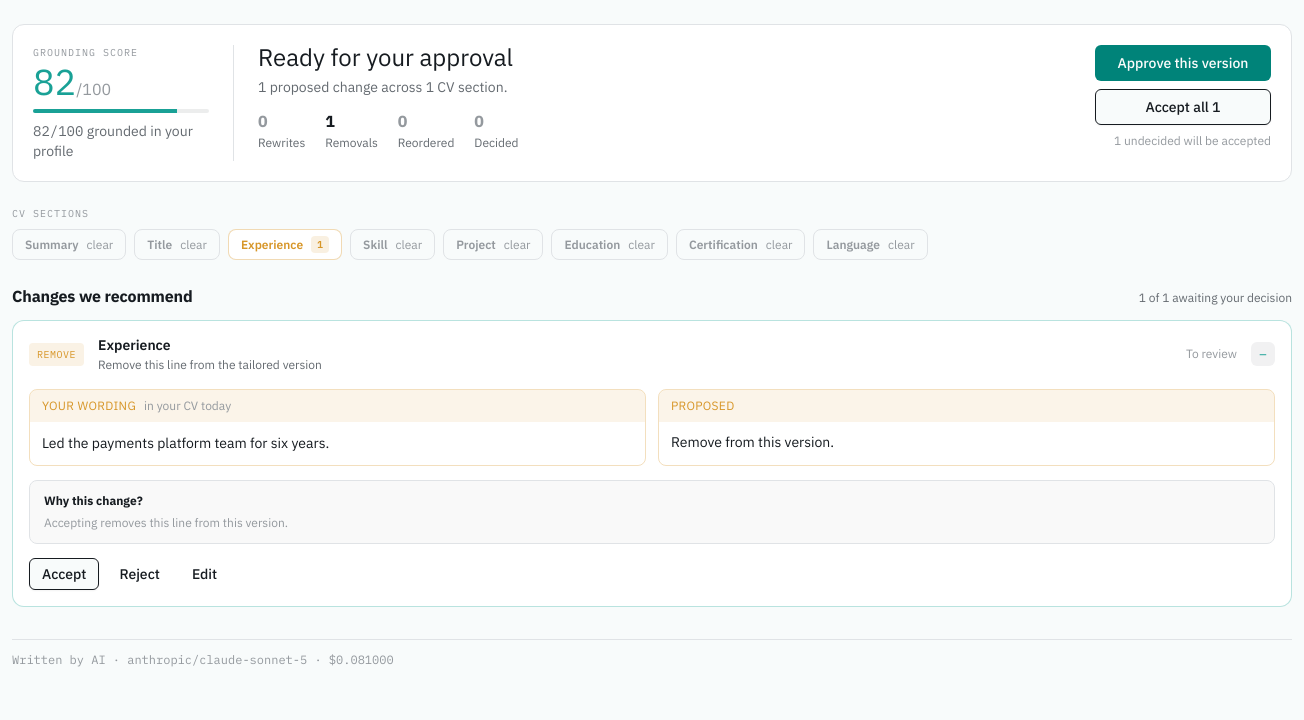
Test: a proposed drop › stays listed after the owner rejects the removal
Click the button "Reject": (140, 574) left=107, top=558, right=172, bottom=590
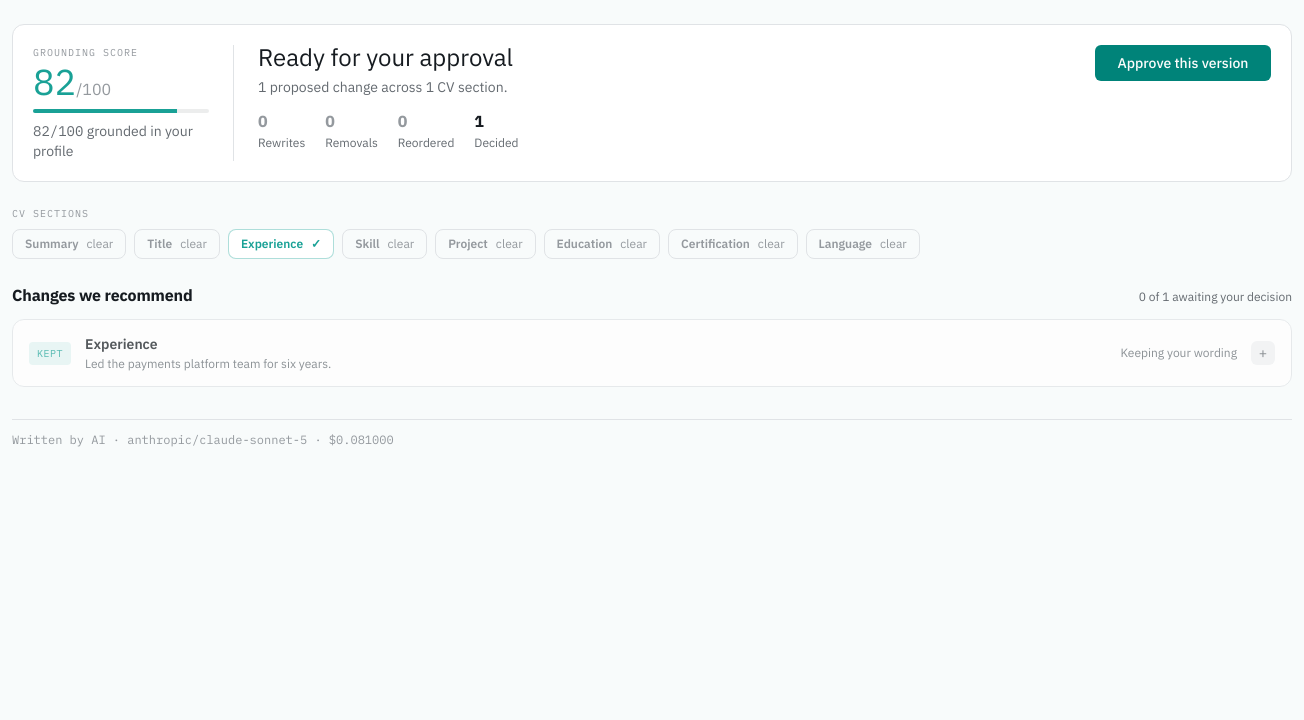
Expected: the text with test id "decision-label" reads "Keeping your wording", left=1120, top=345, right=1237, bottom=360
Expected: the button "Accept" is gone
